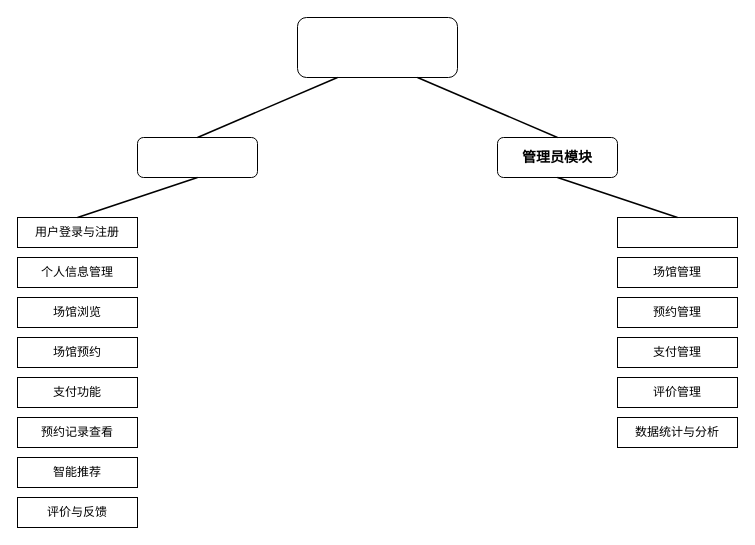
Image size: 755x545. Some labels were removed from this diagram. Here are the shapes that lost their labels. From the top down, the centre of each, then its label:
point 377,47: 场馆预约系统
point 197,157: 用户模块
point 677,232: 用户管理
